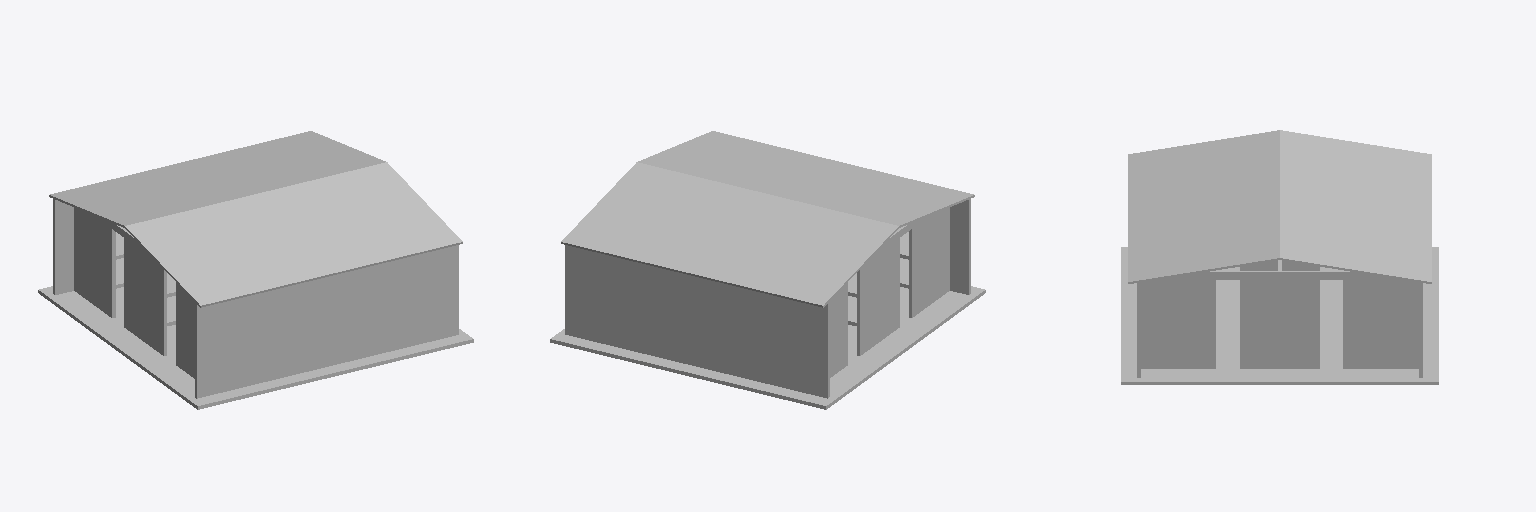
Rendered from PoultryFarm.obj.
The picture shows the model from 3 angles: view 1: azimuth 30°, elevation 25°; view 2: azimuth 150°, elevation 25°; view 3: azimuth 270°, elevation 25°; orthographic projection.
Size of the model in its own units: 20 by 8.58 by 20.